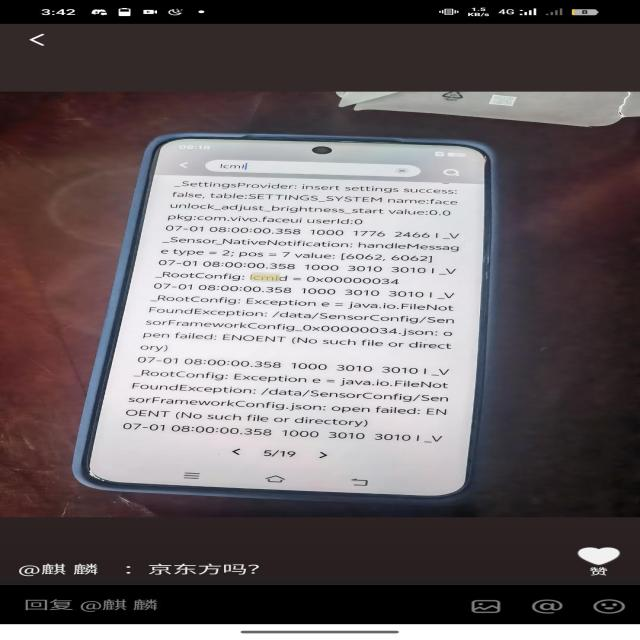mobile_phone: (59, 109, 517, 509)
